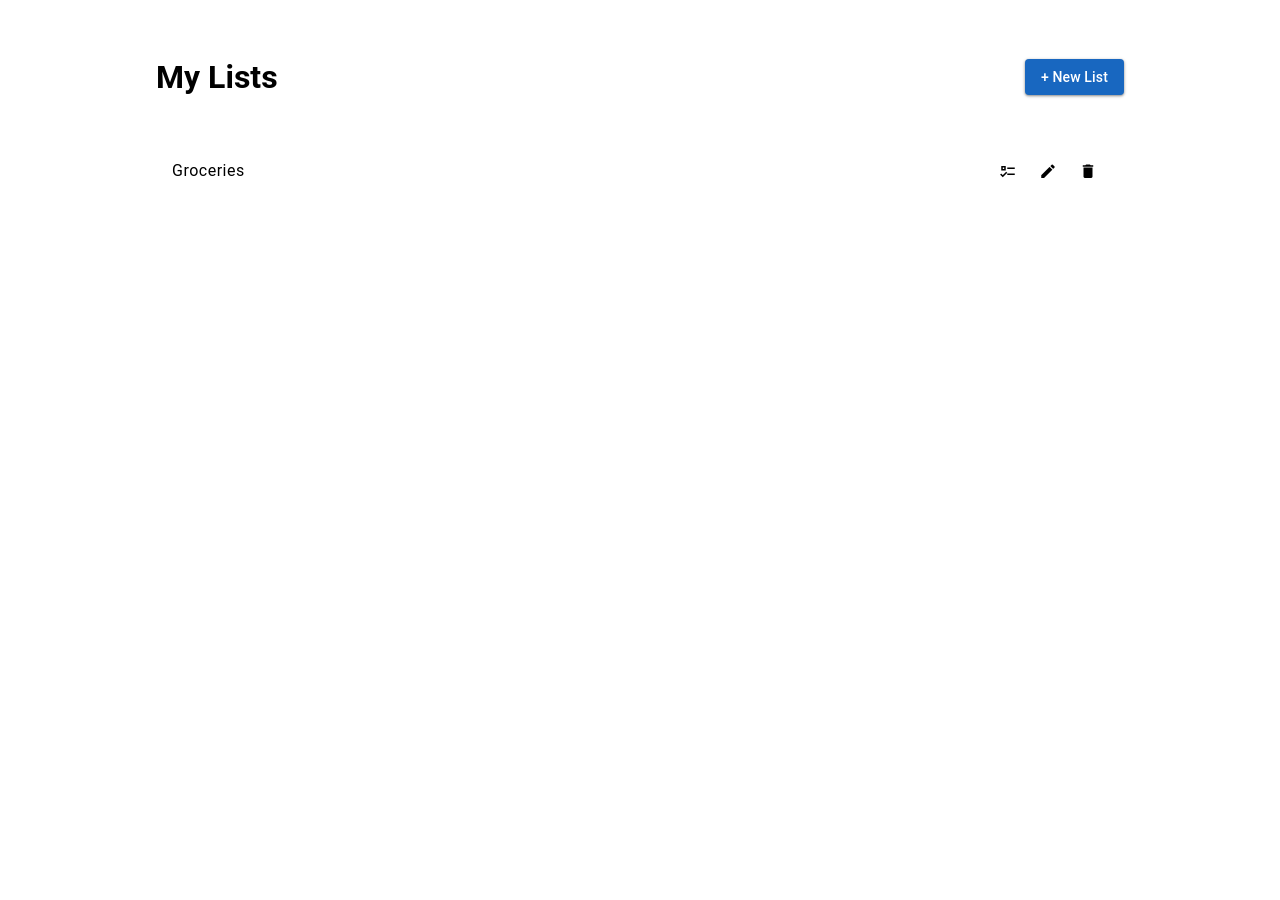
Scenario: Feature 3 — Todo List Item Management › US-3.1 — Add tasks to a list › User adds a todo with an empty title
This screenshot has width=1280, height=900.
Click the button named "View items for Groceries": (1008, 171) top-left (988, 151), bottom-right (1028, 191)
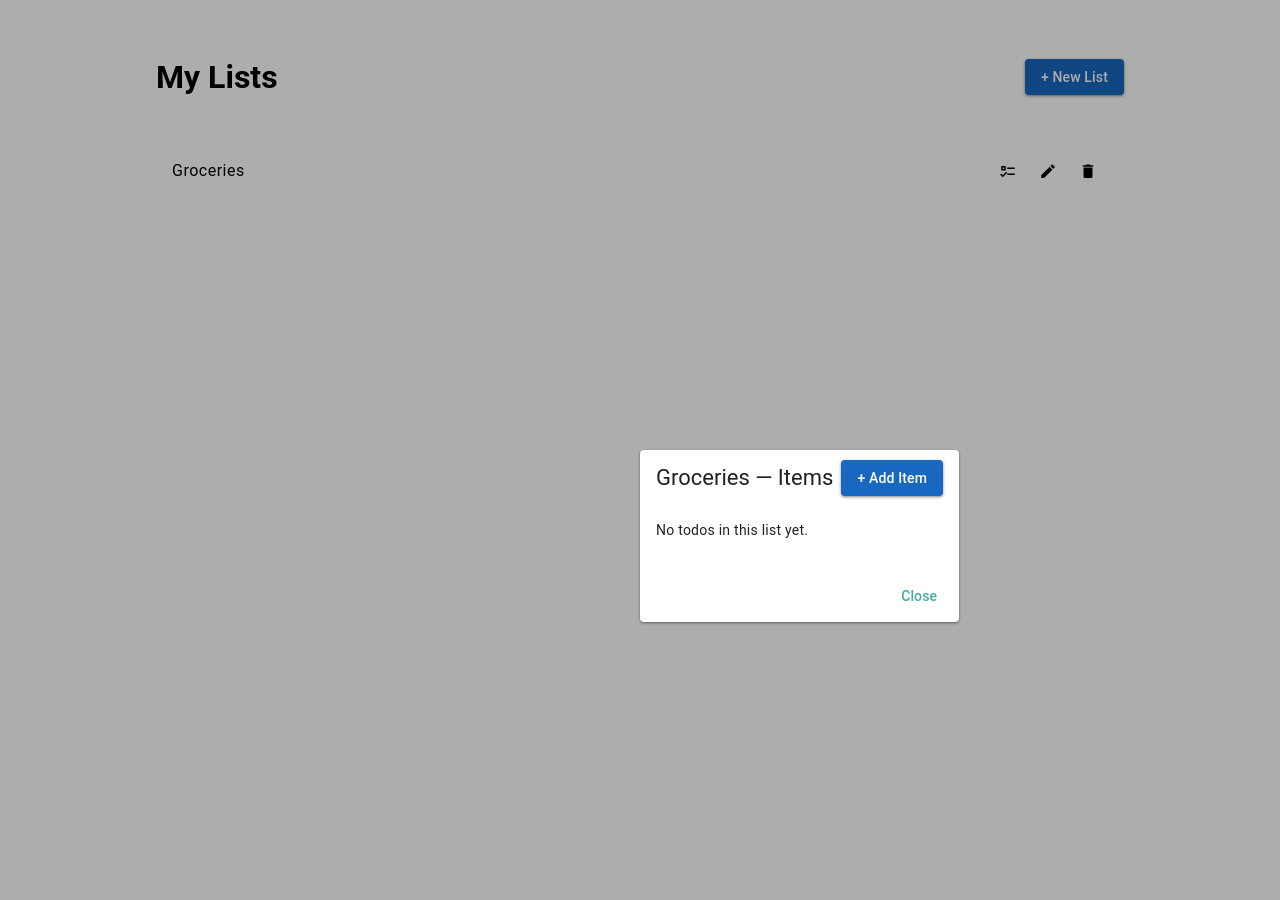
Click the button "+ Add Item": (892, 478) top-left (841, 460), bottom-right (943, 496)
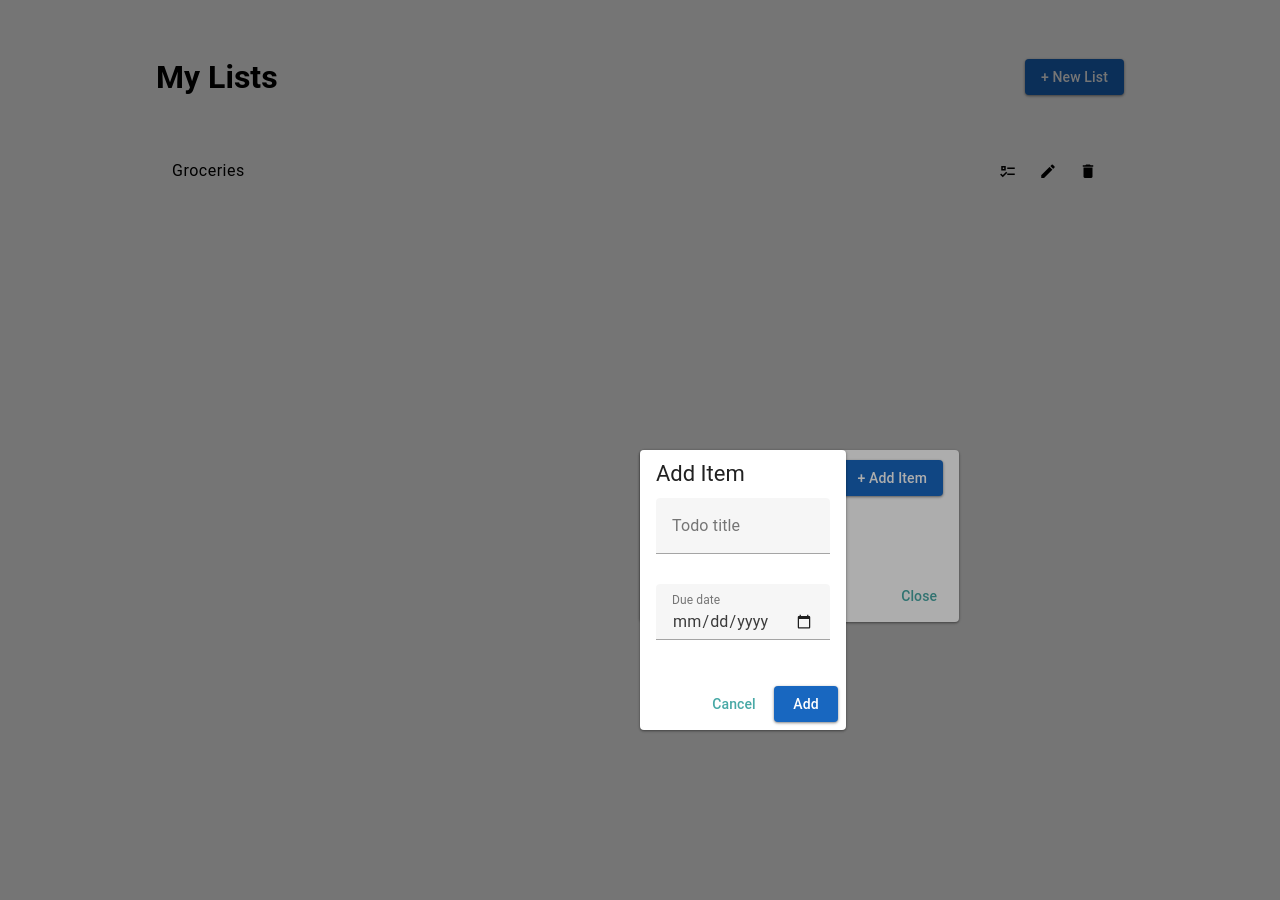
Click the button "Add": (806, 704) top-left (774, 686), bottom-right (838, 722)
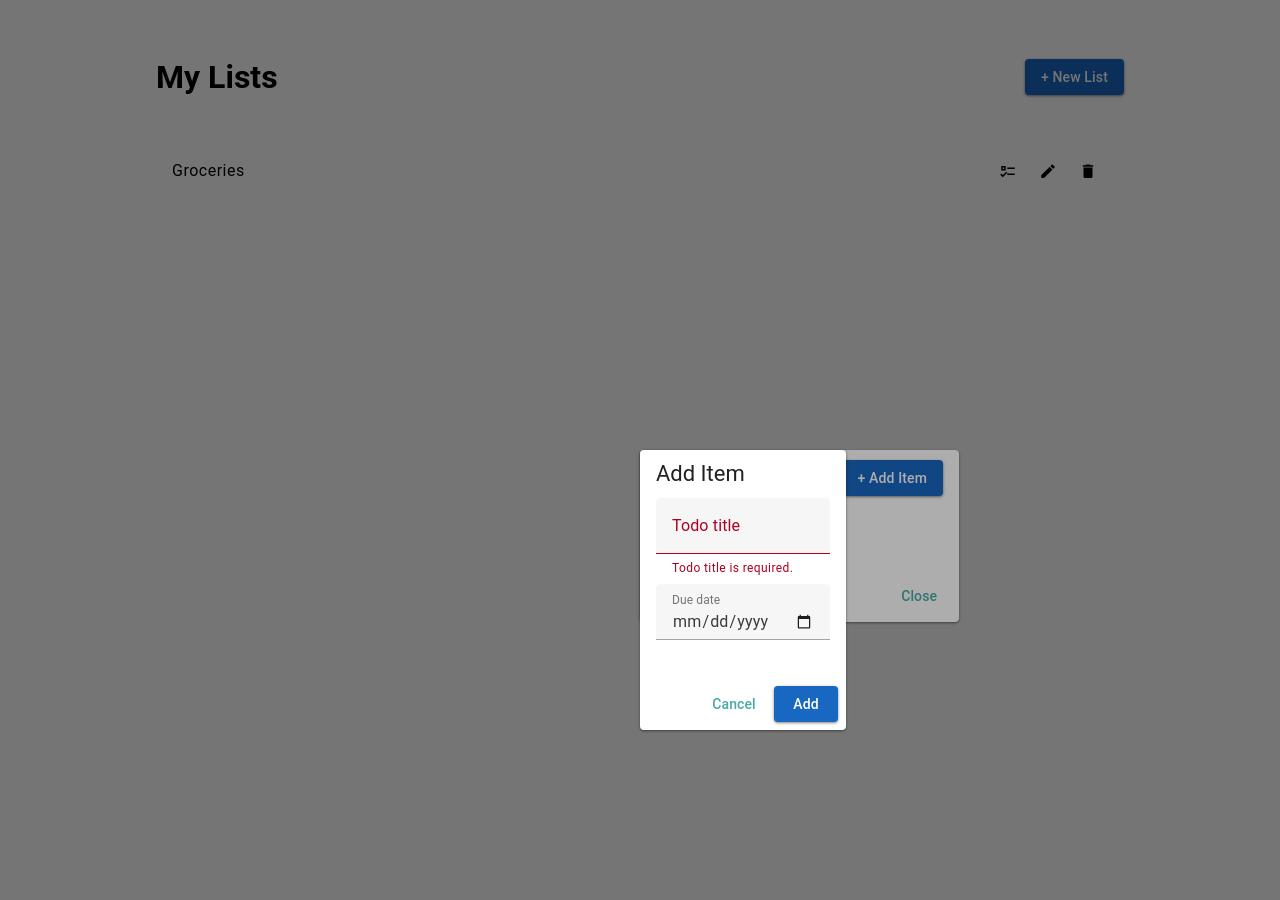
Now the text "Todo title is required." is shown, box top-left (672, 562), bottom-right (814, 574)
